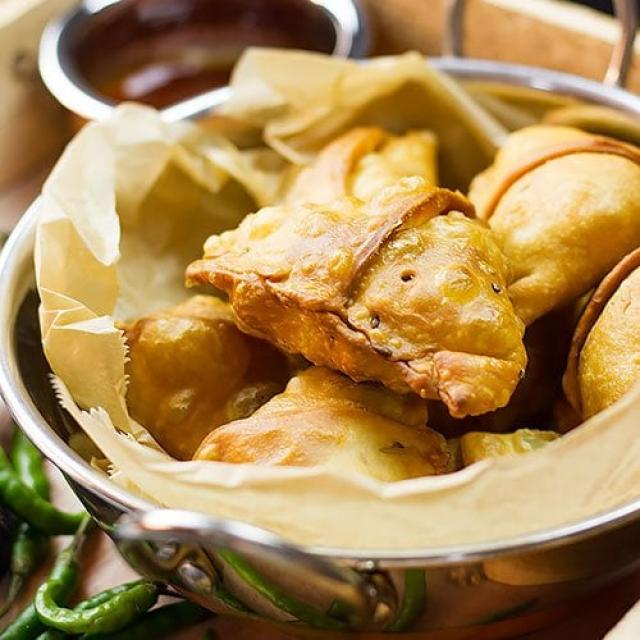SAMOSA: (202, 123, 519, 415), (476, 116, 639, 346)
